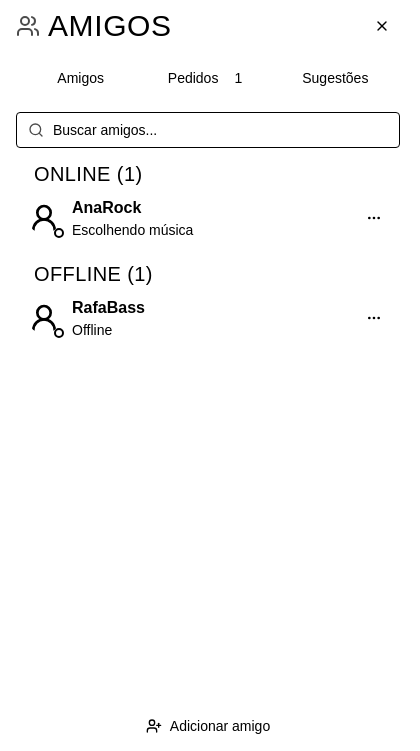
Test: PainelDeAmigos › a busca filtra pelo nome
Type "rafa" into the field labelled "Buscar amigos". click: [208, 130]
box: x1=16 y1=112 x2=400 y2=148
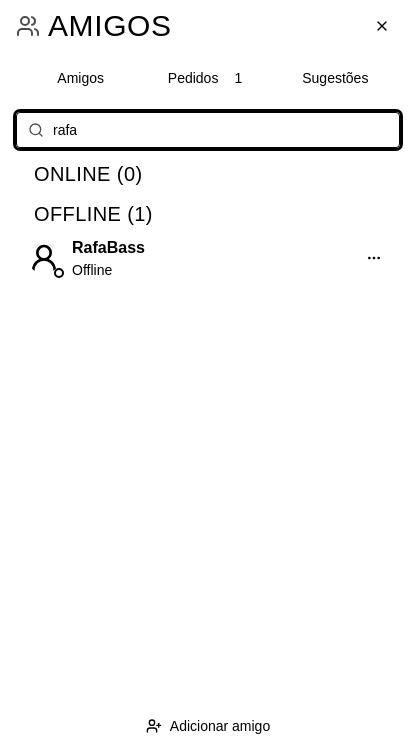
Check: the text "RafaBass" is shown, box x1=72 y1=239 x2=145 y2=256
Check: the text "AnaRock" is gone
